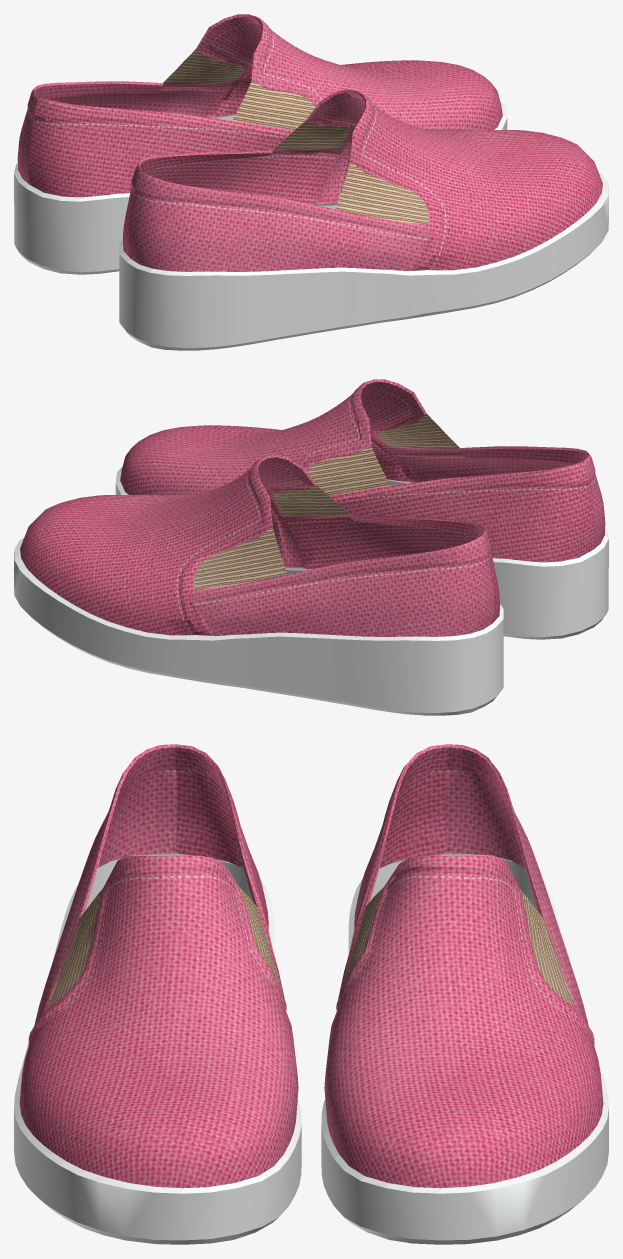
File: Loafers.FBX
3 renders of one model, top to bottom at view 1: azimuth 30°, elevation 25°; view 2: azimuth 150°, elevation 25°; view 3: azimuth 270°, elevation 25°, orthographic. The views are drawn at different scales.
Parts seen in each view (by area): view 1: Right_loafer, Left_loafer; view 2: Left_loafer, Right_loafer; view 3: Left_loafer, Right_loafer.
Boxes of the visible parts, x1,y1,x2,y2 form: Right_loafer: (119,89,608,350); Left_loafer: (14,14,507,274); Left_loafer: (14,454,503,715); Right_loafer: (115,379,608,639); Left_loafer: (321,744,608,1244); Right_loafer: (14,744,301,1244).
Size of the model in its own units: 26.87 by 10.31 by 21.93.
